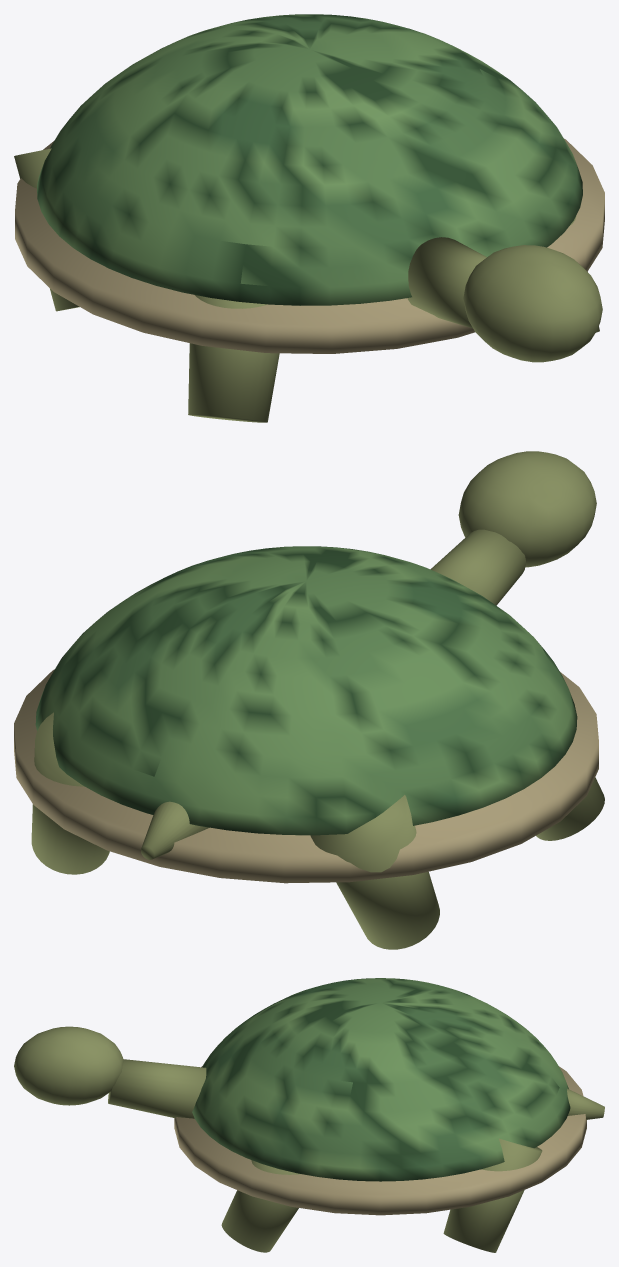
File: turtle_vcol.glb
3 renders of one model, top to bottom at view 1: azimuth 30°, elevation 25°; view 2: azimuth 150°, elevation 25°; view 3: azimuth 270°, elevation 25°, orthographic. The views are drawn at different scales.
Visible parts, largest first — view 1: turtle; view 2: turtle; view 3: turtle.
Part boxes in pixels (x1,y1,x2,y2): turtle: (14, 14, 604, 422); turtle: (14, 451, 604, 949); turtle: (14, 978, 604, 1252).
Bounding box in the file's own units: 0.59 × 0.3044 × 0.8449.
